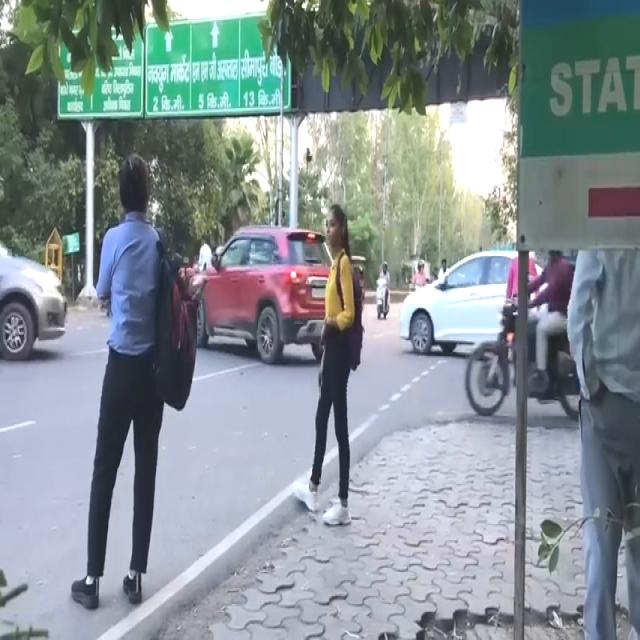MOTORCYCLE: (375, 277, 391, 322)
SUV: (189, 223, 343, 367)
